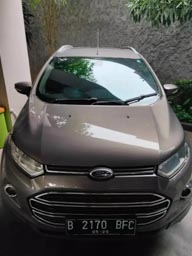plat: (66, 220, 135, 230)
